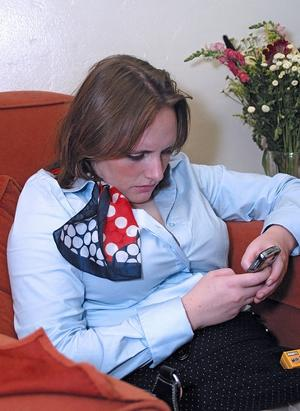person: (7, 55, 298, 409)
